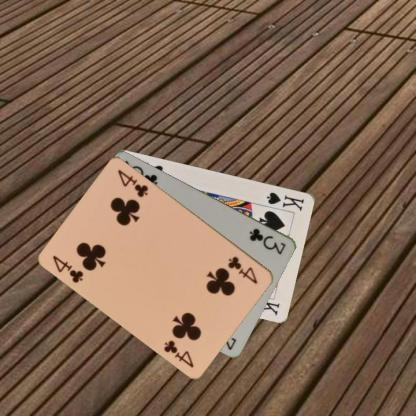3c: (247, 225, 287, 256)
4c: (50, 252, 85, 284), (226, 253, 260, 285)
Ks: (264, 190, 306, 212)
